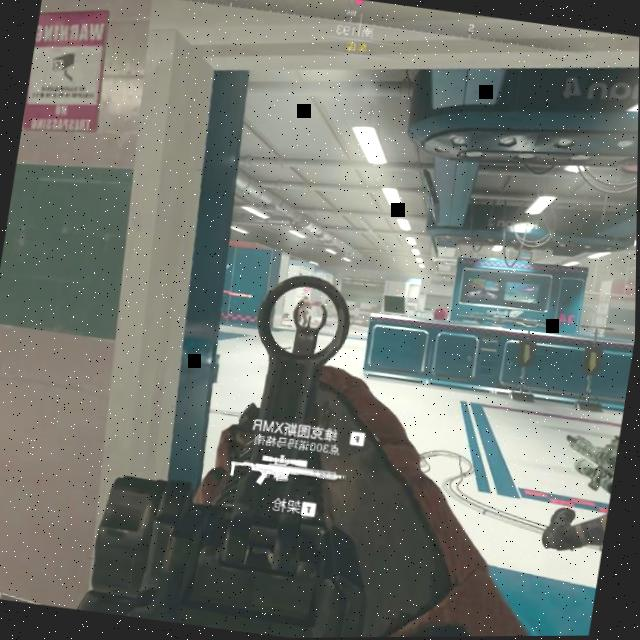MW2_body: (296, 287, 316, 329)
